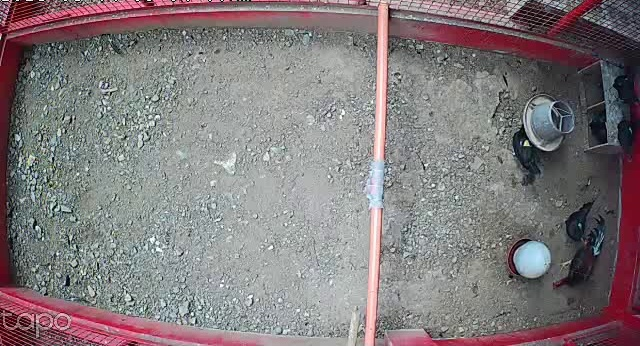Chicken: (554, 195, 599, 243), (506, 115, 542, 173), (607, 69, 640, 112), (617, 114, 640, 164)
Rooster: (550, 216, 611, 290)
Saddle_Color_Yellow: (519, 139, 534, 147)
